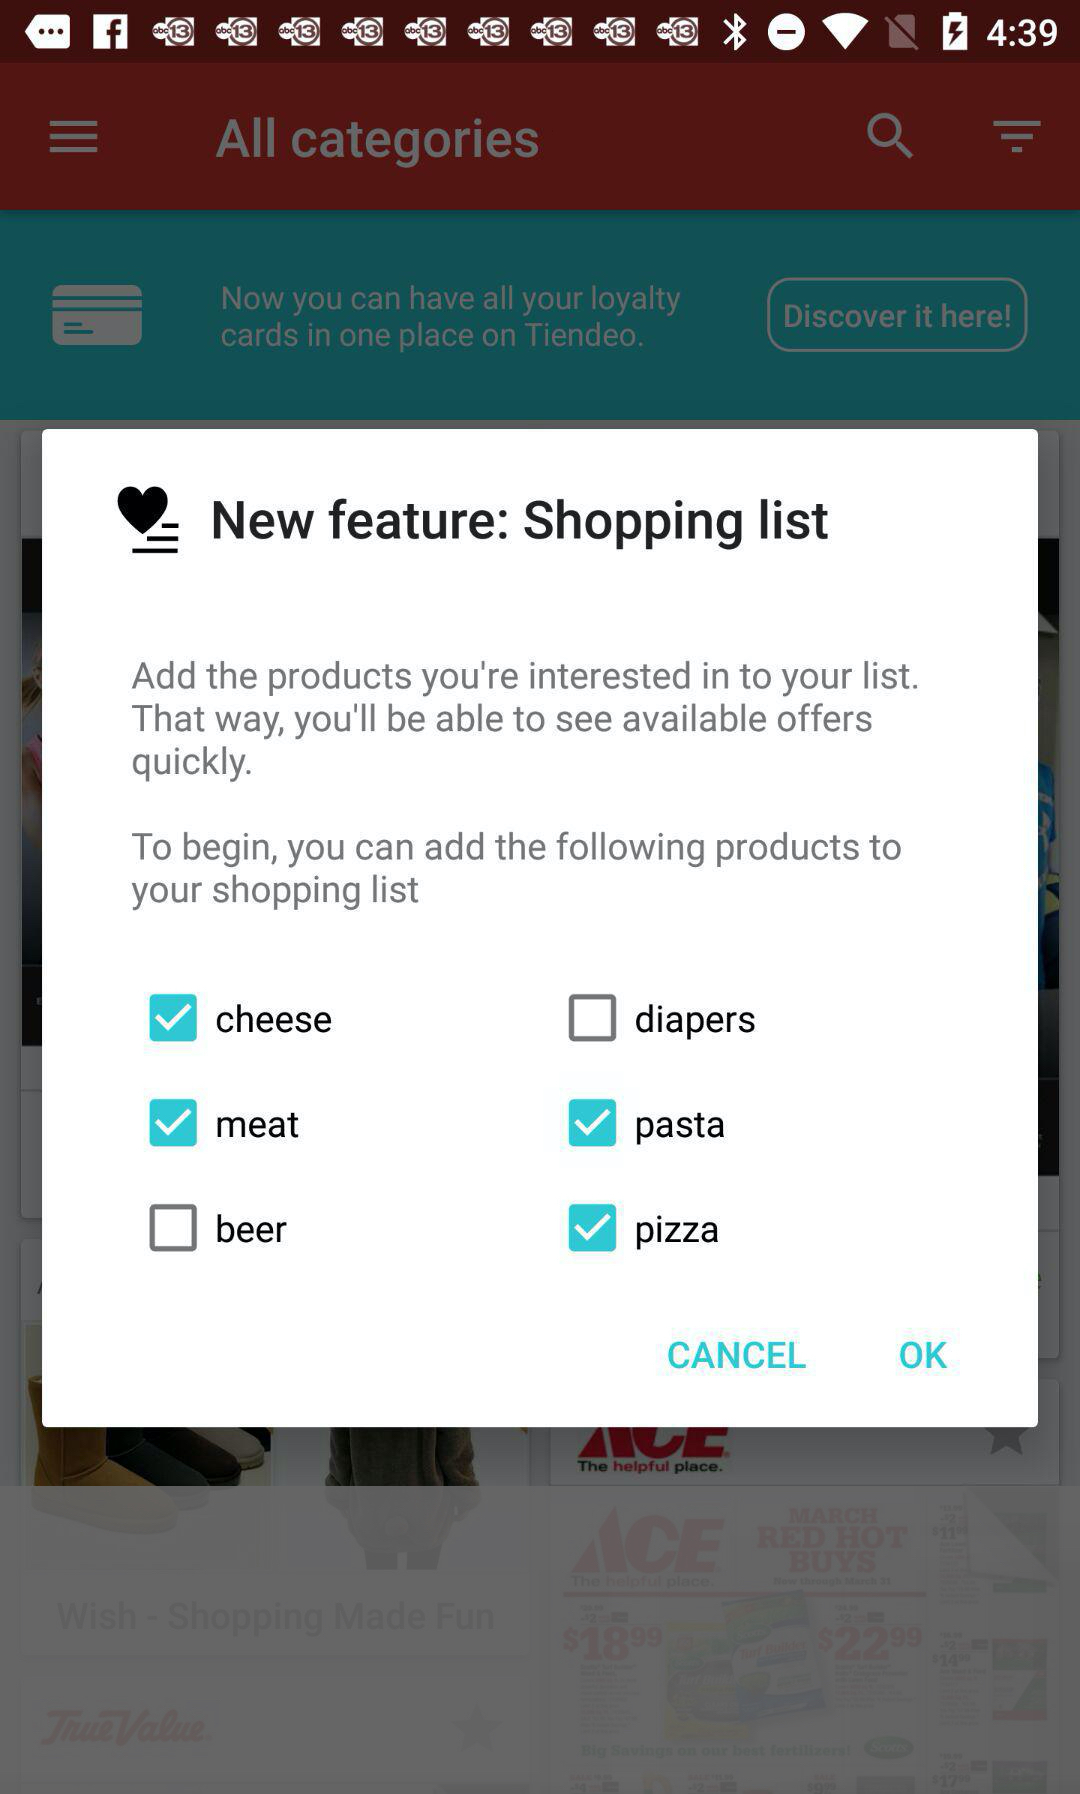CheckedTextView: (568, 992, 758, 1044), (150, 994, 332, 1043), (568, 1097, 726, 1149), (149, 1098, 302, 1149), (568, 1202, 721, 1253), (150, 1205, 290, 1253)
Icon: (53, 284, 143, 349), (118, 486, 179, 554), (866, 113, 915, 161), (47, 120, 100, 156), (992, 120, 1043, 155)
Modal: (44, 429, 1039, 1428)
Text: (132, 660, 919, 784), (129, 832, 902, 912), (214, 498, 829, 551), (222, 284, 682, 354), (215, 117, 539, 170), (635, 1003, 755, 1041), (667, 1340, 807, 1369), (217, 1003, 332, 1034), (635, 1112, 724, 1146), (635, 1215, 717, 1251), (217, 1214, 290, 1244), (218, 1112, 300, 1138), (899, 1340, 947, 1369)
TextButton: (765, 277, 1027, 354)
UpperTaskBar: (1, 1, 1080, 64)
